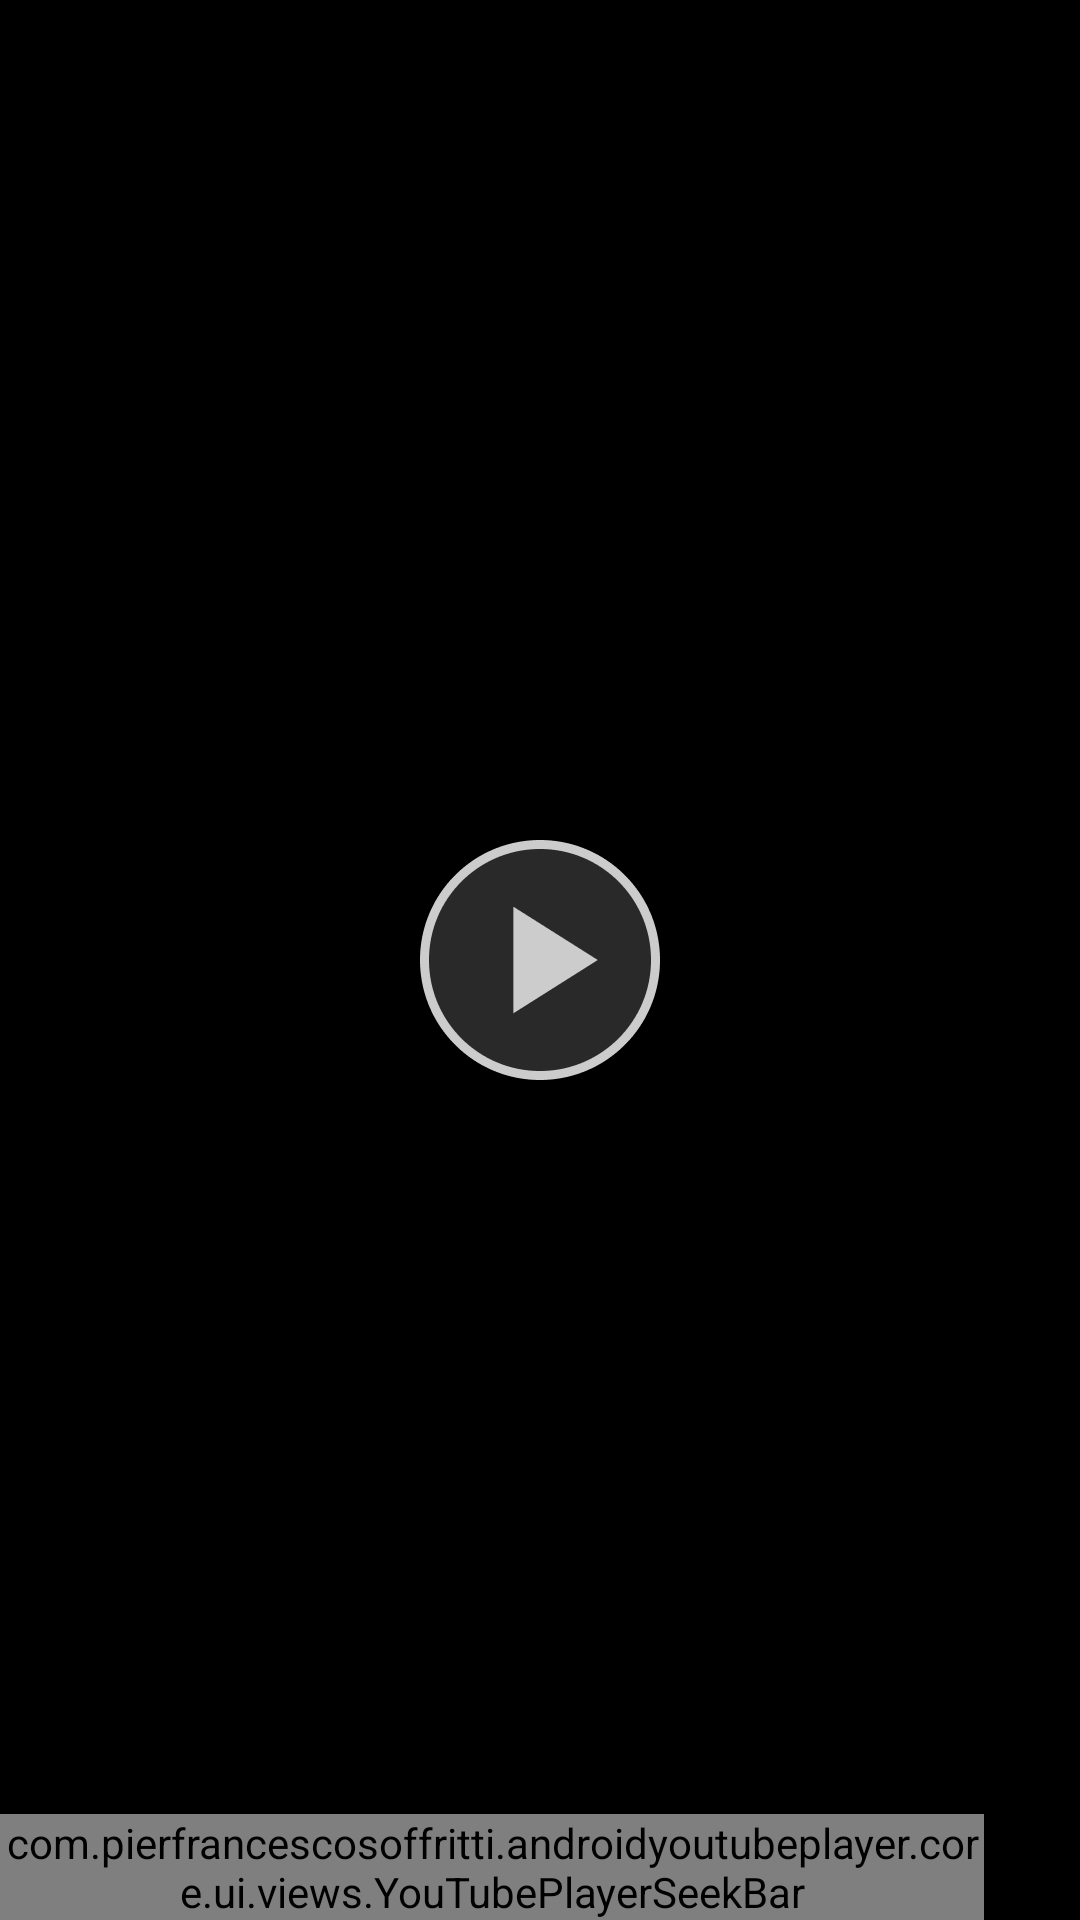

Icons on this 1080px×1920px Android screen, each with its box as (x1, y1, x2, y2):
play: (420, 840, 660, 1080)
